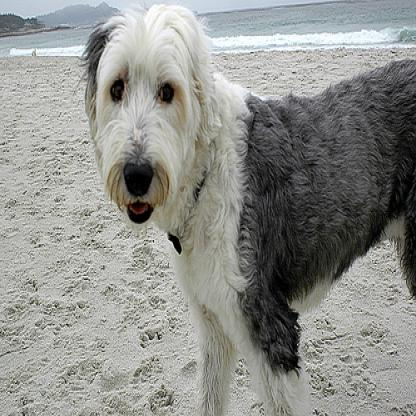dog: (87, 3, 415, 414)
